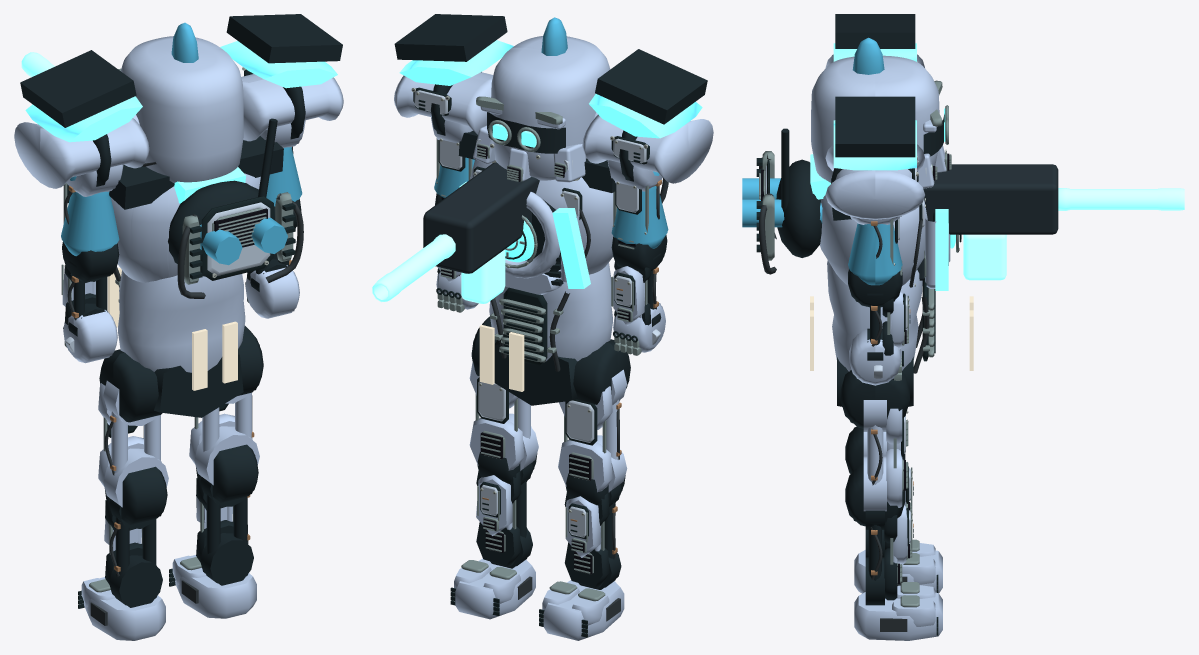
File: deepseek.glb
3 renders of one model, left to right at view 1: azimuth 30°, elevation 25°; view 2: azimuth 150°, elevation 25°; view 3: azimuth 270°, elevation 25°, orthographic. The views are drawn at different scales.
Visible parts, largest first — view 1: LOD3_Batch7, LOD3_Batch50, LOD1_Batch4, LOD7_Batch21, LOD3_Batch23, LOD3_Batch45, LOD7_Batch36, LOD3_Batch63, LOD3_Batch58, LOD3_Batch38, LOD3_Batch70, LOD3_Batch54 (+40 smaller); view 2: LOD3_Batch7, LOD7_Batch43, LOD3_Batch45, LOD7_Batch21, LOD3_Batch50, LOD3_Batch23, LOD7_Batch36, LOD7_Batch44, LOD1_Batch51, LOD3_Batch58, LOD3_Batch52, LOD3_Batch61 (+46 smaller); view 3: LOD7_Batch43, LOD3_Batch7, LOD7_Batch36, LOD7_Batch44, LOD3_Batch38, LOD3_Batch45, LOD3_Batch67, LOD3_Batch50, LOD3_Batch61, LOD7_Batch21, LOD3_Batch3, LOD3_Batch63 (+22 smaller).
Part boxes in pixels (x1,y1,x2,y2): LOD3_Batch7: (120, 36, 243, 183); LOD3_Batch50: (118, 270, 245, 372); LOD1_Batch4: (177, 192, 303, 298); LOD7_Batch21: (20, 50, 136, 127); LOD3_Batch23: (14, 118, 149, 188); LOD3_Batch45: (111, 173, 260, 282); LOD7_Batch36: (226, 14, 342, 63); LOD3_Batch63: (196, 474, 253, 585); LOD3_Batch58: (98, 380, 168, 507); LOD3_Batch38: (241, 74, 343, 141); LOD3_Batch70: (154, 352, 243, 417); LOD3_Batch54: (105, 496, 162, 607); LOD3_Batch7: (473, 36, 610, 182); LOD7_Batch43: (423, 162, 539, 273); LOD3_Batch45: (470, 160, 613, 294); LOD7_Batch21: (595, 49, 707, 124); LOD3_Batch50: (489, 262, 612, 361); LOD3_Batch23: (582, 114, 713, 183); LOD7_Batch36: (394, 14, 507, 61); LOD7_Batch44: (372, 234, 505, 303); LOD1_Batch51: (490, 287, 569, 371); LOD3_Batch58: (558, 369, 627, 492); LOD3_Batch52: (542, 580, 624, 640); LOD3_Batch61: (454, 558, 535, 619); LOD7_Batch43: (917, 164, 1058, 280); LOD3_Batch7: (811, 55, 946, 188); LOD7_Batch36: (835, 96, 915, 157); LOD7_Batch44: (963, 188, 1184, 280); LOD3_Batch38: (825, 146, 924, 219); LOD3_Batch45: (820, 195, 948, 288); LOD3_Batch67: (863, 400, 902, 511); LOD3_Batch50: (827, 260, 922, 371); LOD3_Batch61: (854, 585, 942, 640); LOD7_Batch21: (835, 14, 915, 48); LOD3_Batch3: (776, 159, 821, 257); LOD3_Batch63: (865, 510, 897, 605).
Bounding box in the file's own units: 0.934 × 1.89 × 1.33.
